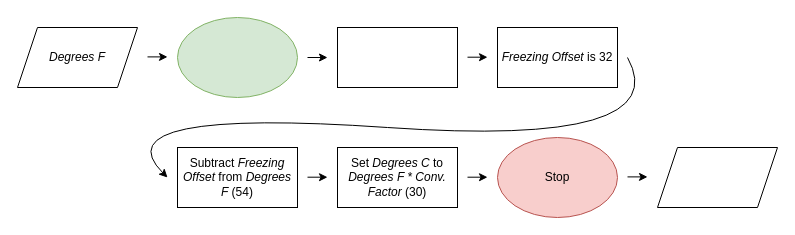
Some shapes in this 795 by 235 pixel diagram are drawn without their labels. Each missing label, with the centre of its shape:
"Conv. Factor is 5/9" belongs at point 397,57.
"Degrees C" belongs at point 717,177.
"Start" belongs at point 237,57.
